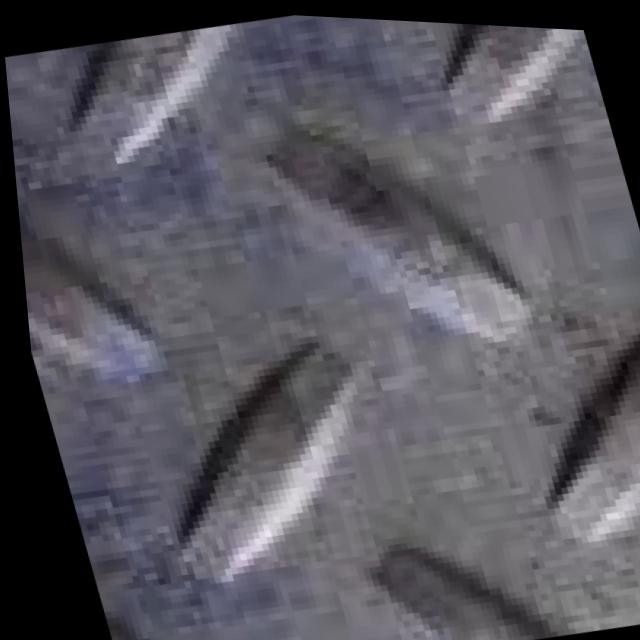metal-plates: (5, 13, 640, 640)
